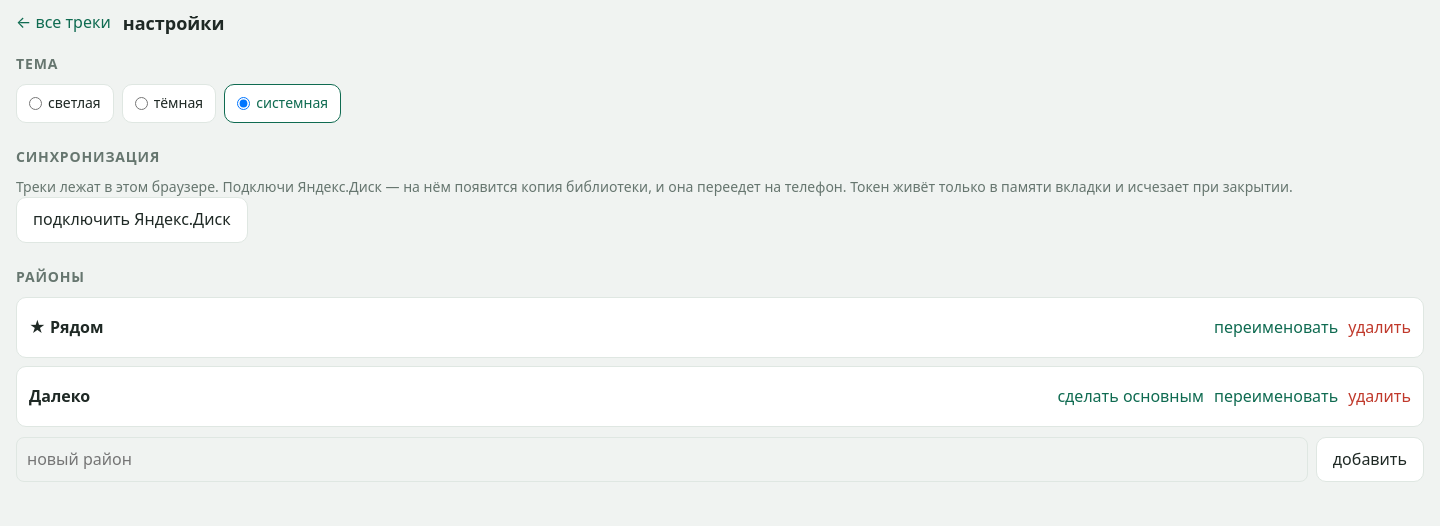
Test: ошибка «сделать основным» показана подсказкой
Check: the text "Рядом" is shown, box x1=50 y1=316 x2=104 y2=338
Click the button "сделать основным": (1131, 397) x1=1057 y1=377 x2=1204 y2=416
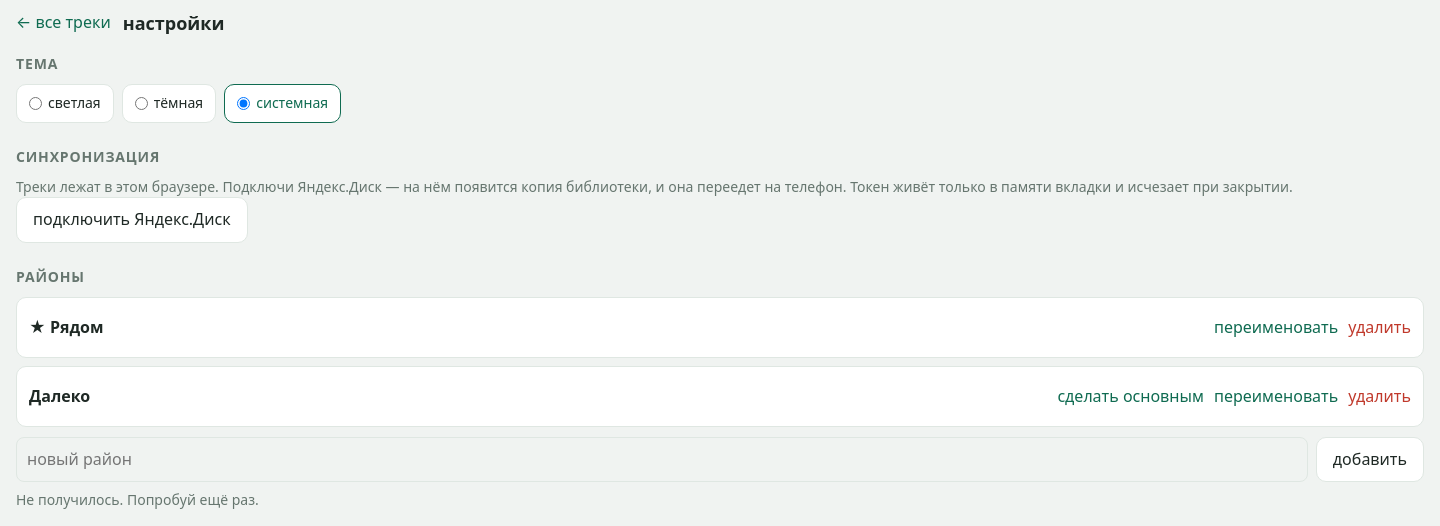
Check: the text "Не получилось. Попробуй ещё раз." is shown, box x1=16 y1=490 x2=259 y2=509
